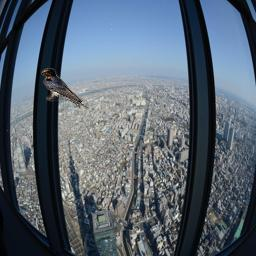Swallow: (41, 68, 89, 110)
